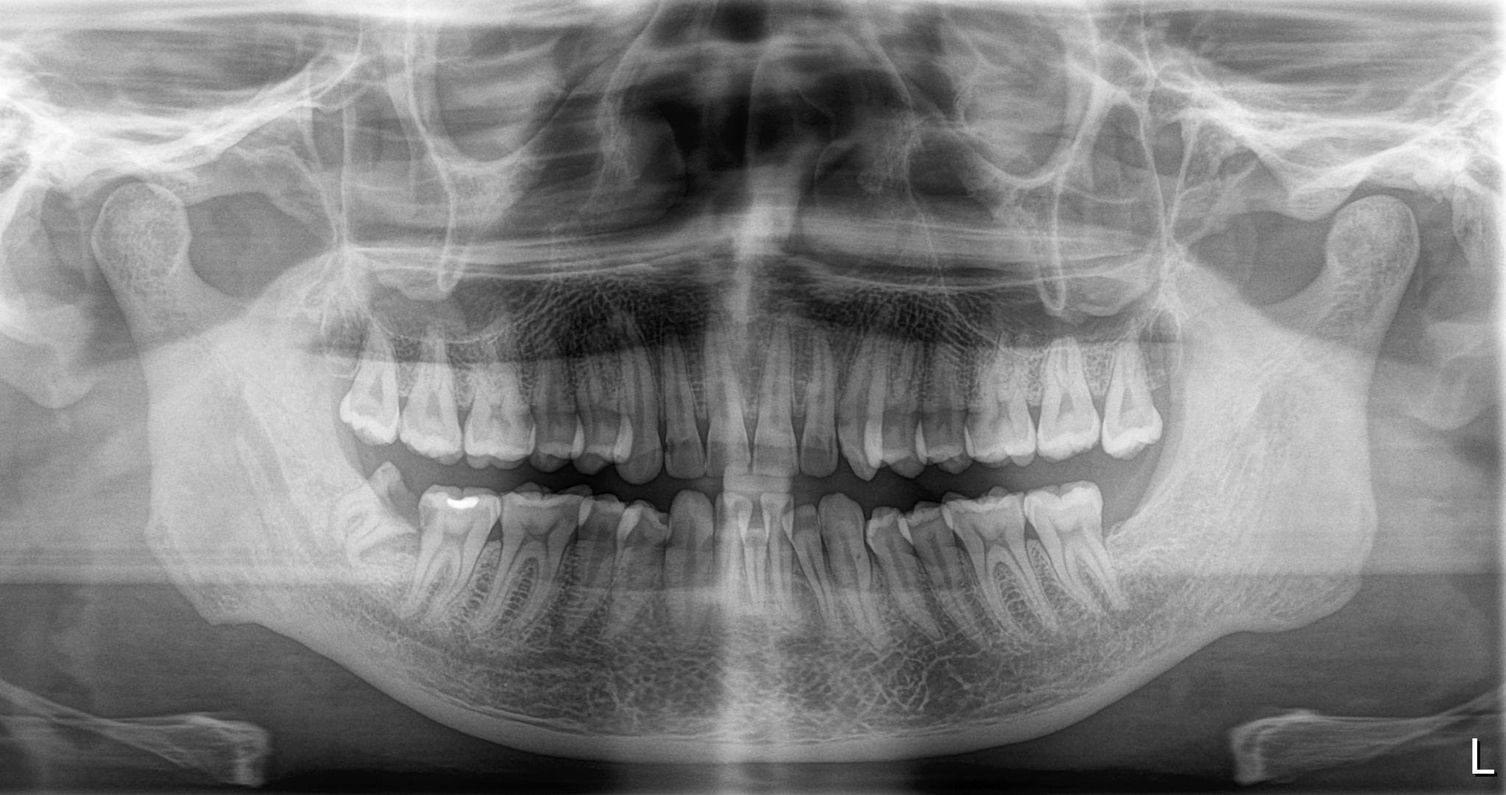Impacted Third Molar: (337, 478, 414, 553)
Missing Tooth: (1105, 485, 1154, 559)
